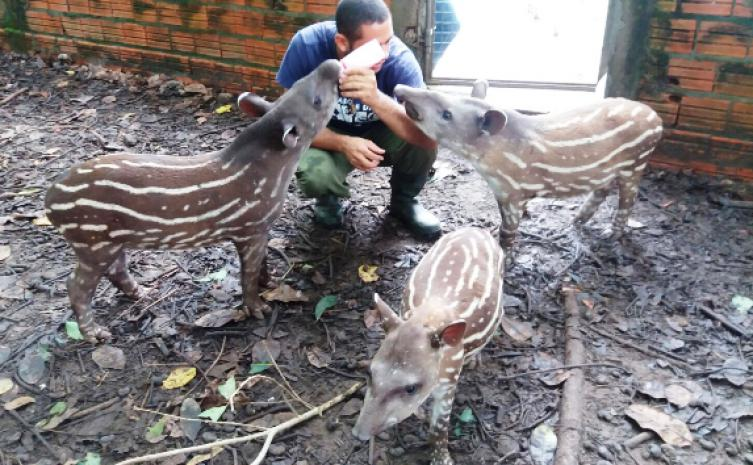Anta: (30, 55, 348, 346), (392, 76, 668, 246), (335, 226, 526, 463)
